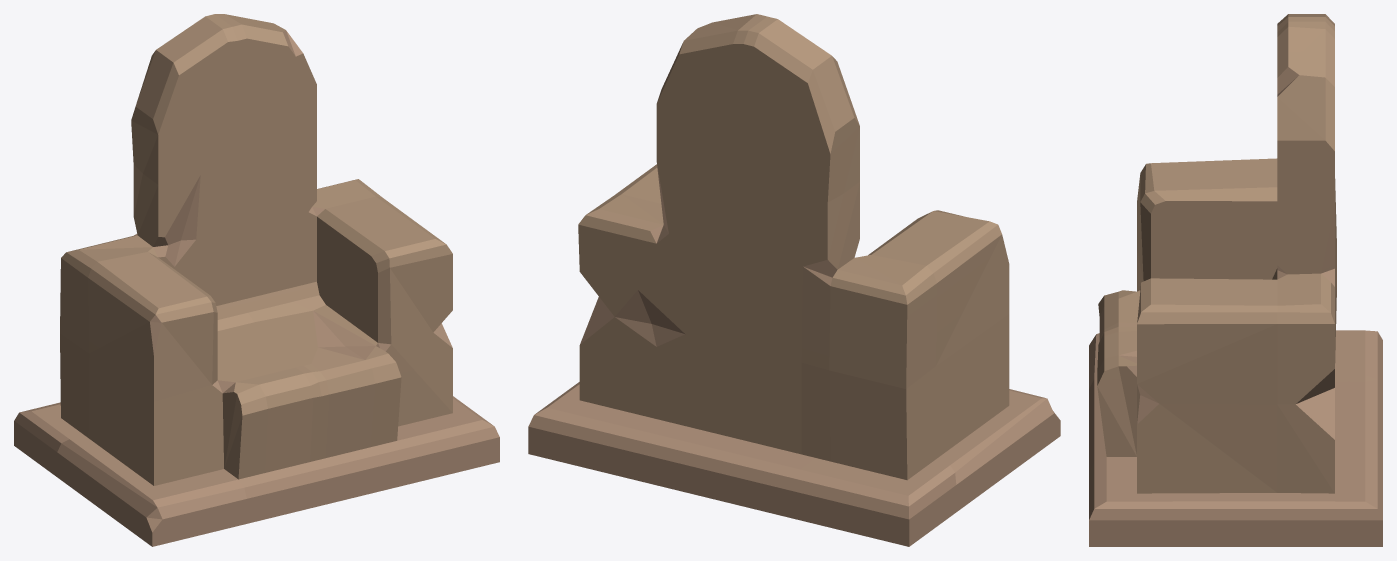
The model's file is Throne_B.fbx.
3 views of the same model, side by side, from view 1: azimuth 30°, elevation 25°; view 2: azimuth 150°, elevation 25°; view 3: azimuth 270°, elevation 25° (orthographic). The views are drawn at different scales.
Parts seen in each view (by area): view 1: Throne_B; view 2: Throne_B; view 3: Throne_B.
Part boxes in pixels (bbox=[...]): Throne_B: bbox=[14, 14, 499, 546]; Throne_B: bbox=[528, 14, 1060, 546]; Throne_B: bbox=[1089, 14, 1382, 546].
Bounding box in the file's own units: 146 × 164 × 101.
